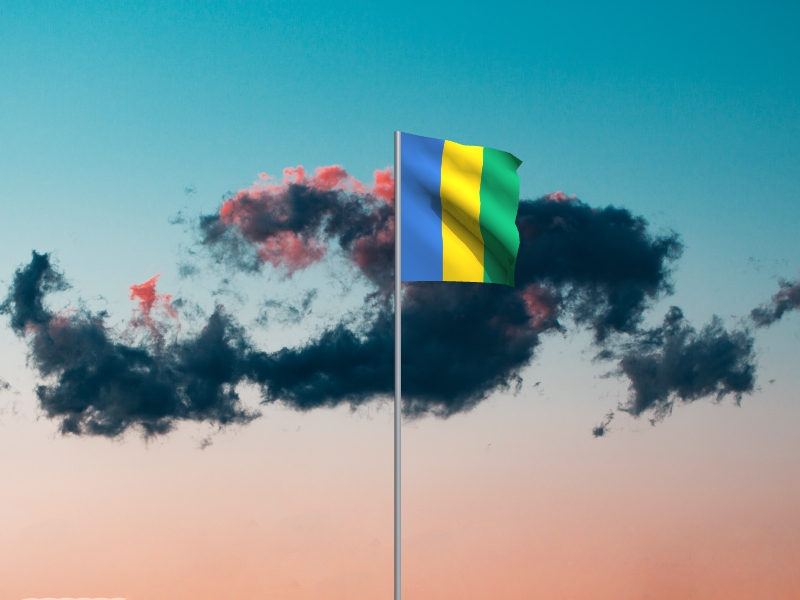ga: (402, 133, 525, 289)
